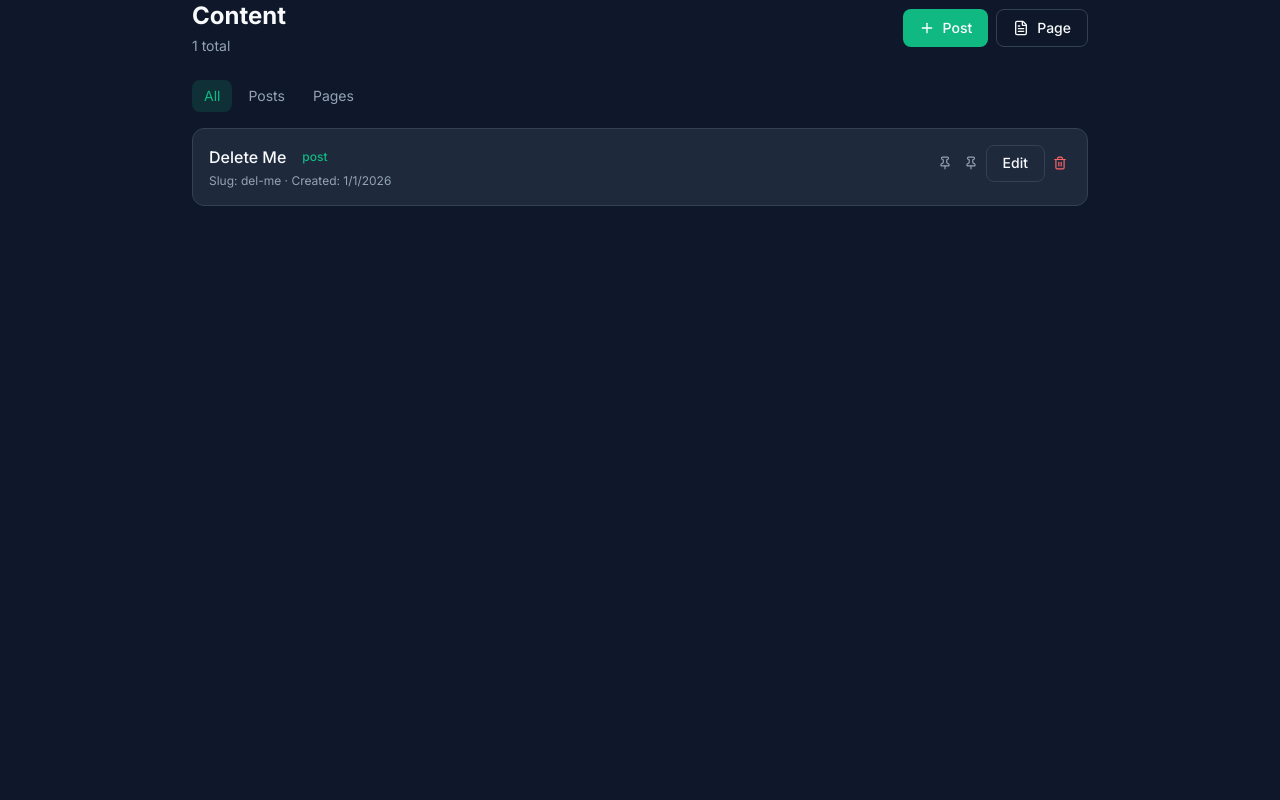
Test case: Content settings page › delete content › closes dialog on Cancel
Expected: the text "Delete Me" is shown, x1=209 y1=145 x2=286 y2=169
What coordinates should you click on to do the following:
click the 9th button
I would click on:
 (1060, 163)
Its box is x1=1049 y1=152 x2=1071 y2=174.
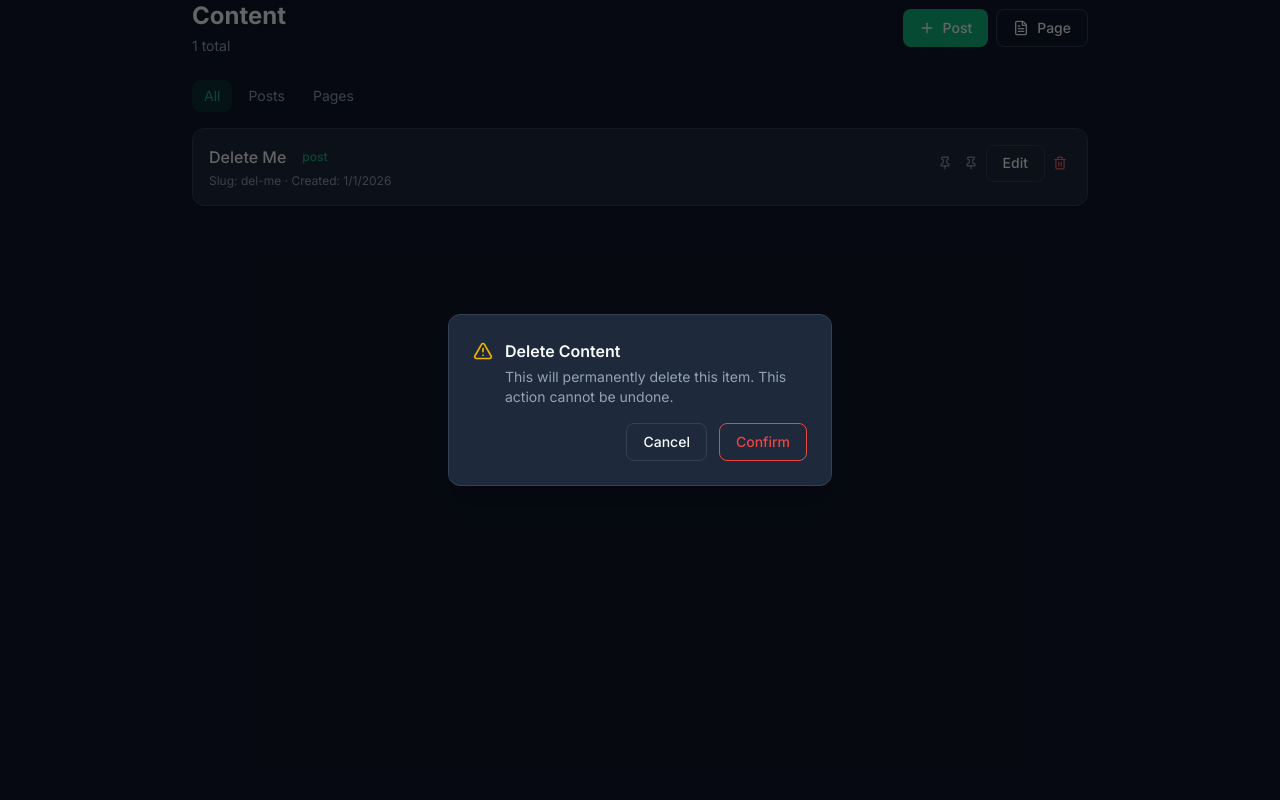
What coordinates should you click on to do the following:
click the button "Cancel"
I would click on:
 (667, 442)
Its box is x1=626 y1=423 x2=707 y2=461.
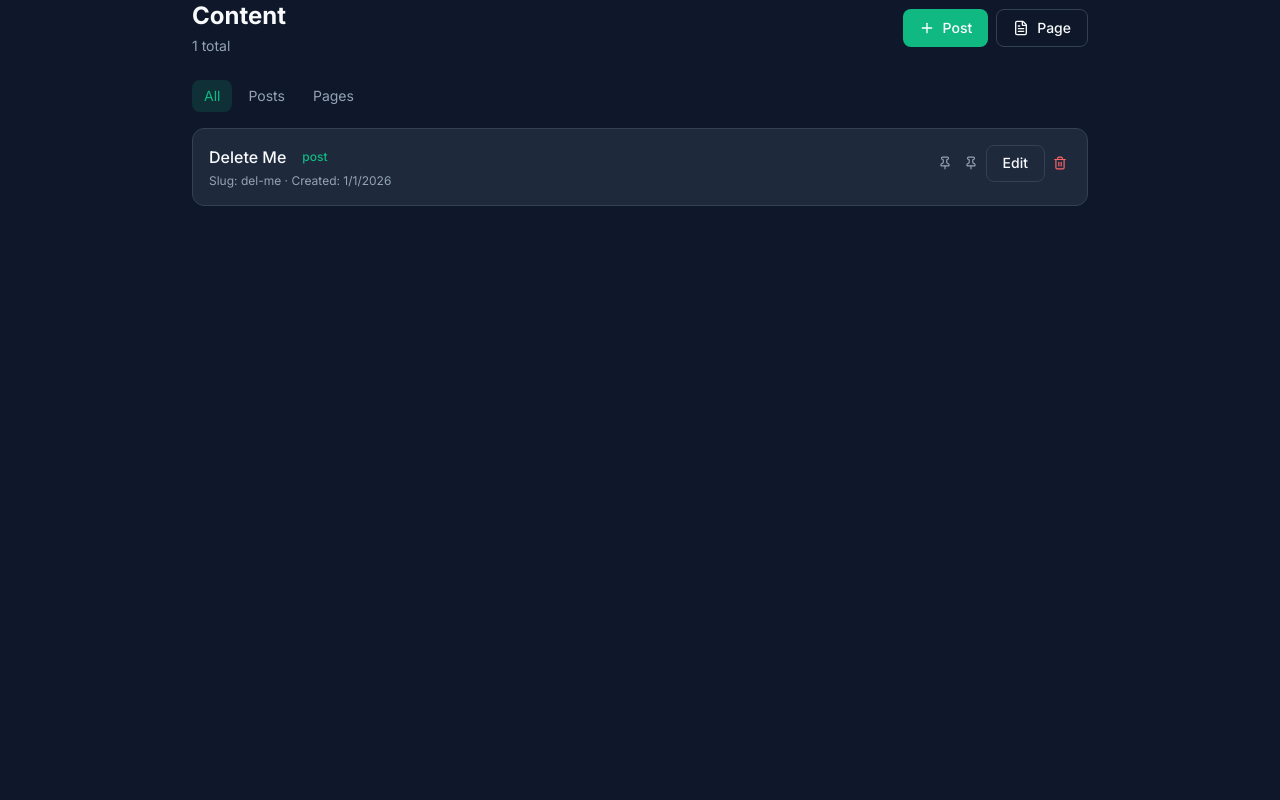
Now the heading "Delete Content" is gone
